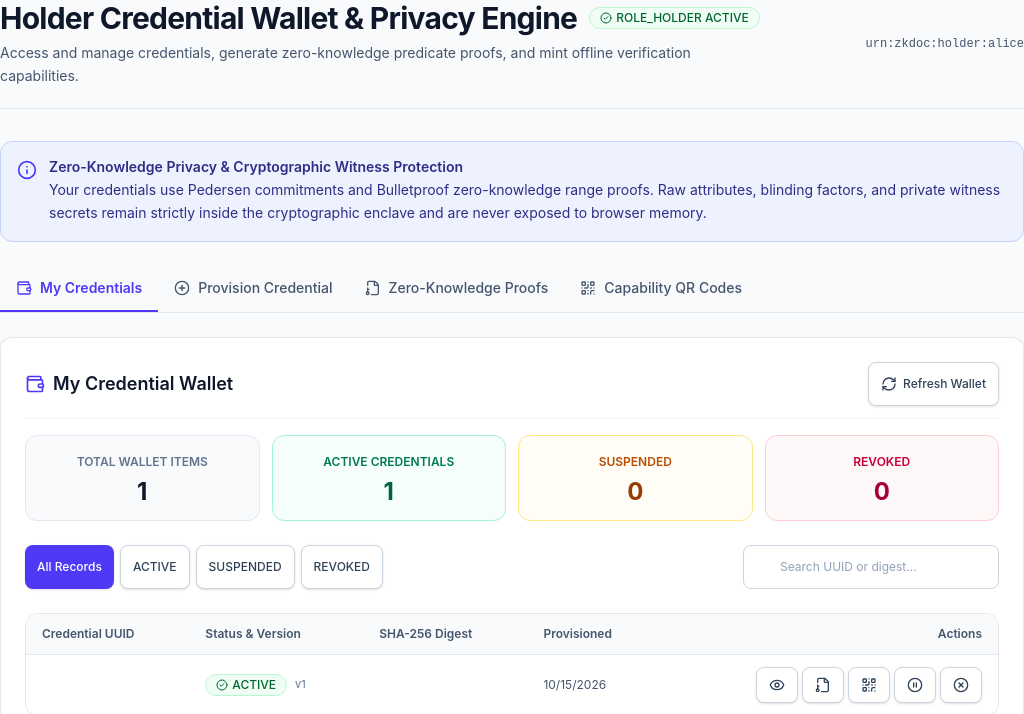
Test case: Holder Workflows & UI Components › HolderDashboardPage Integration › renders holder operations workspace with active role and switches tabs
expect the heading "Holder Credential Wallet & Privacy Engine" is shown: met, box [0,0,577,36]
expect the text "ROLE_HOLDER ACTIVE" is shown: met, box [589,7,760,29]
Click the tab "Provision Credential" at (253, 288), box [158,266,348,312]
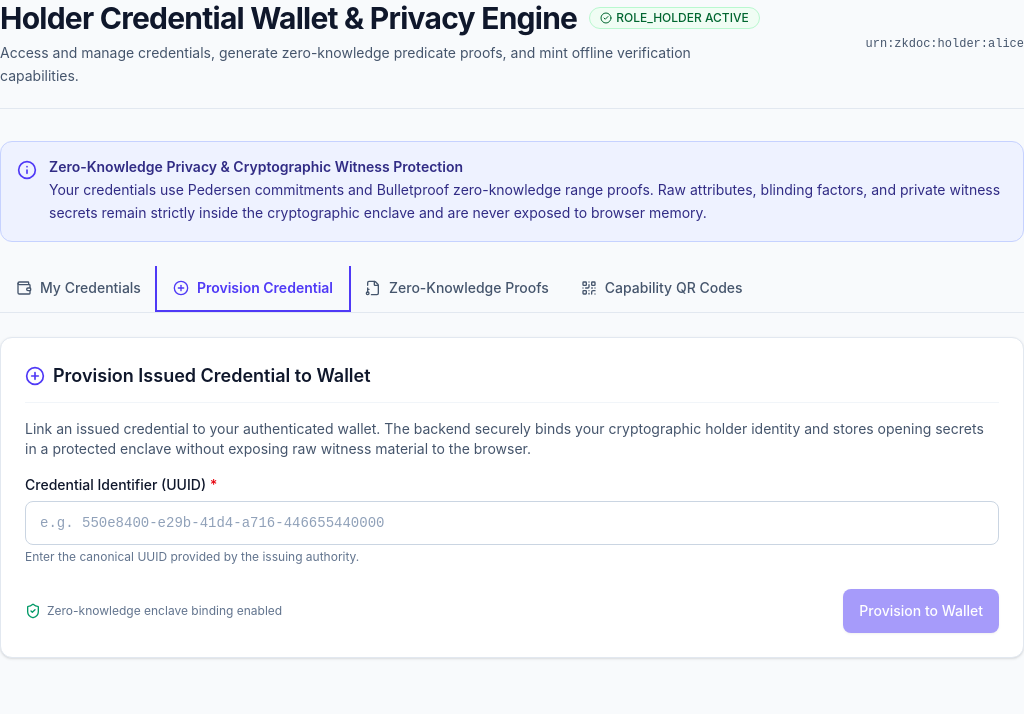
expect the heading "Provision Issued Credential to Wallet" is shown: met, box [53,362,371,390]
Click the tab "Zero-Knowledge Proofs" at (457, 288), box [349,266,565,312]
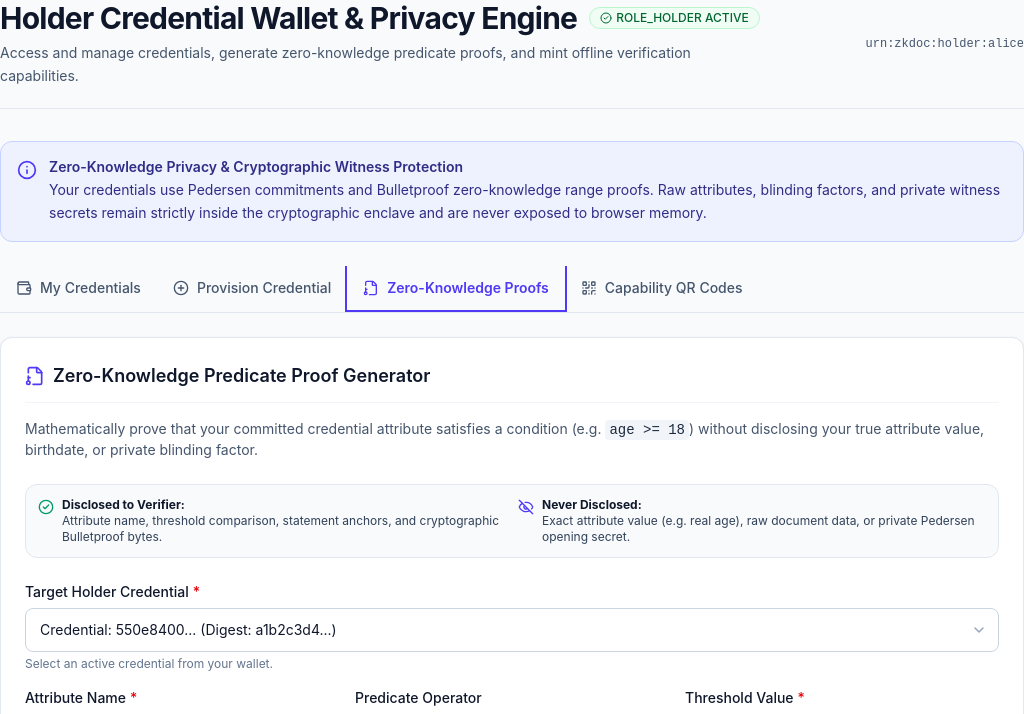
expect the heading "Zero-Knowledge Predicate Proof Generator" is shown: met, box [53,362,430,390]
Click the tab "Capability QR Codes" at (662, 288), box [565,266,759,312]
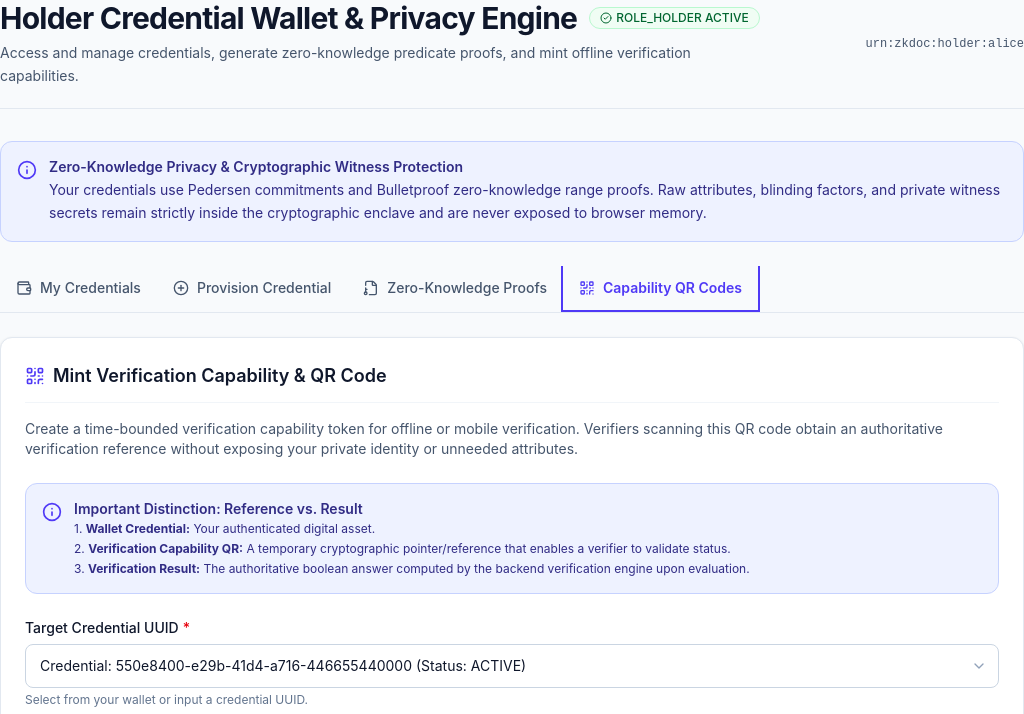
expect the heading "Mint Verification Capability & QR Code" is shown: met, box [53,362,387,390]
